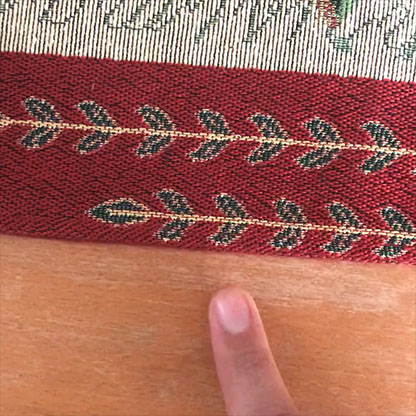fingertip: (194, 274, 268, 348)
